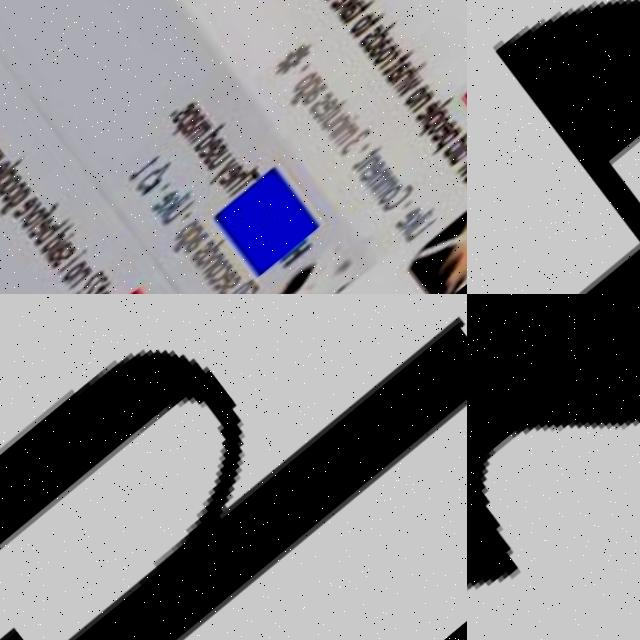0: (226, 284, 263, 294)
1: (130, 159, 167, 191)
3: (341, 136, 378, 170)
E: (495, 5, 640, 294)
H: (0, 330, 467, 640)
S: (467, 294, 640, 640)
